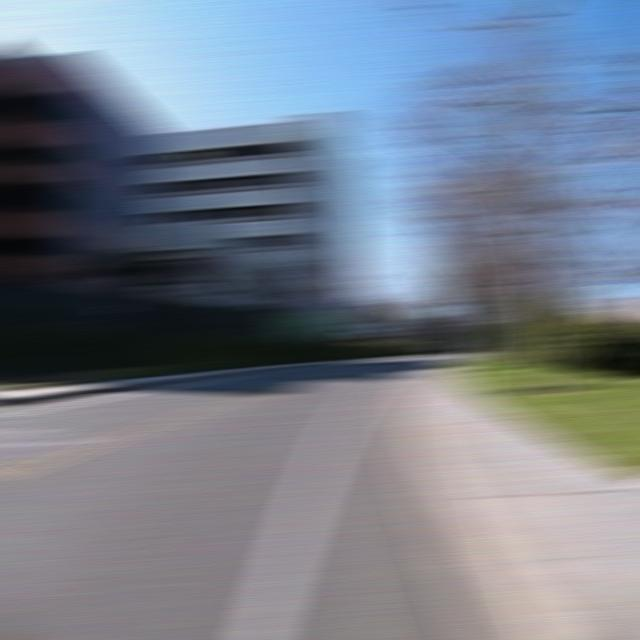speedLimit35: (458, 294, 496, 325)
